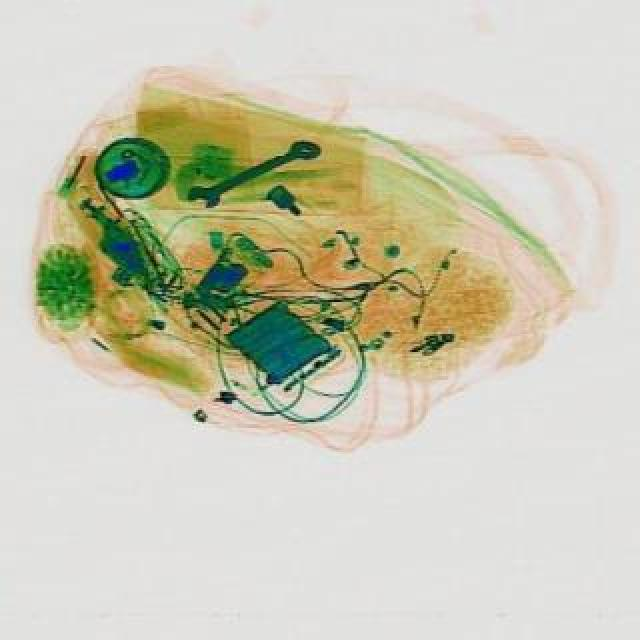scissors: (184, 134, 326, 220)
